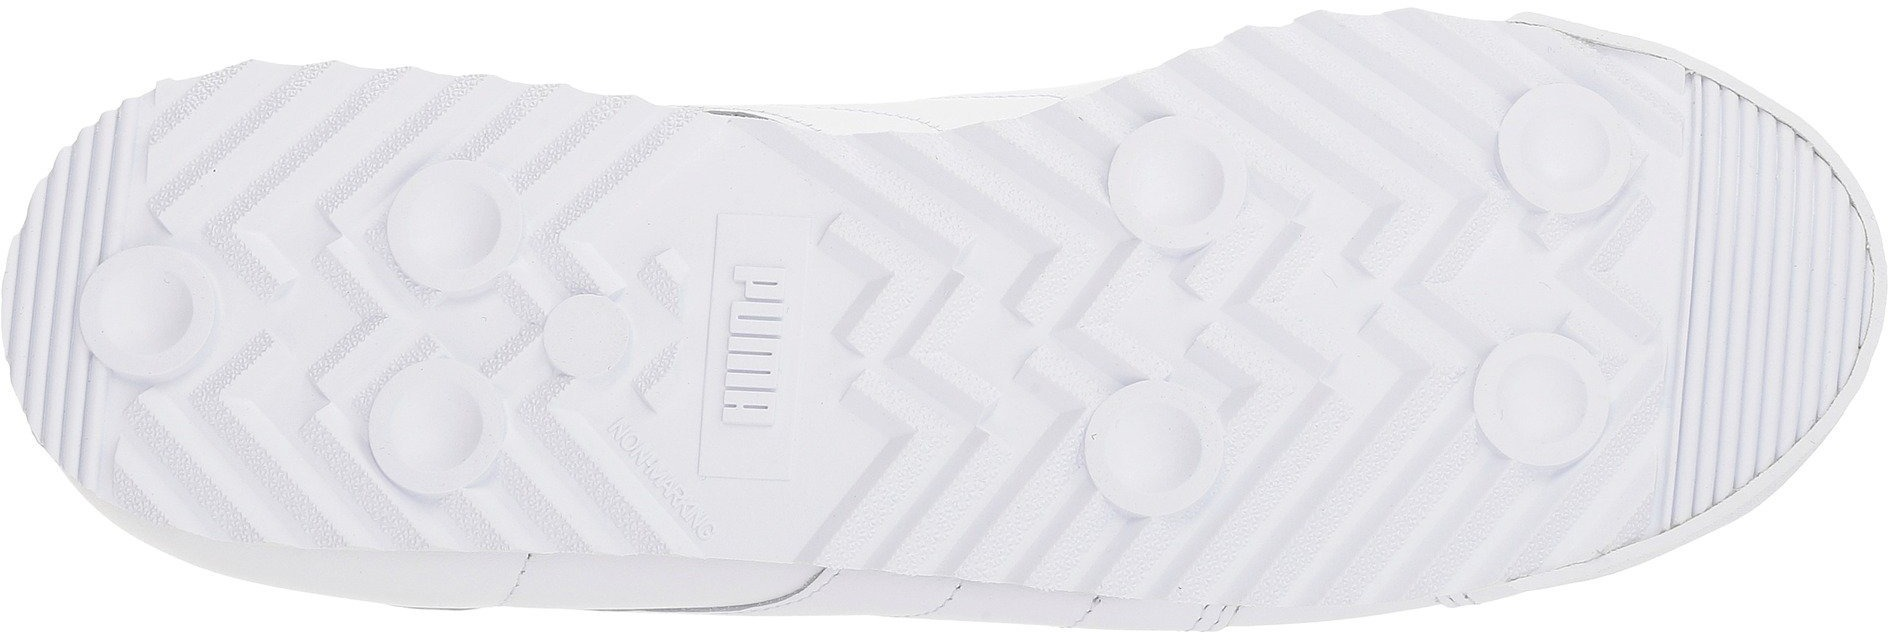chevron: (843, 195, 1088, 423), (1256, 211, 1462, 419), (216, 212, 371, 402)
circle: (1488, 69, 1641, 225), (1099, 115, 1249, 269), (1079, 378, 1235, 522), (396, 154, 535, 306), (374, 358, 518, 492)
quad: (1697, 201, 1854, 383), (6, 245, 79, 354)
text: (726, 263, 816, 358), (716, 358, 793, 442)
